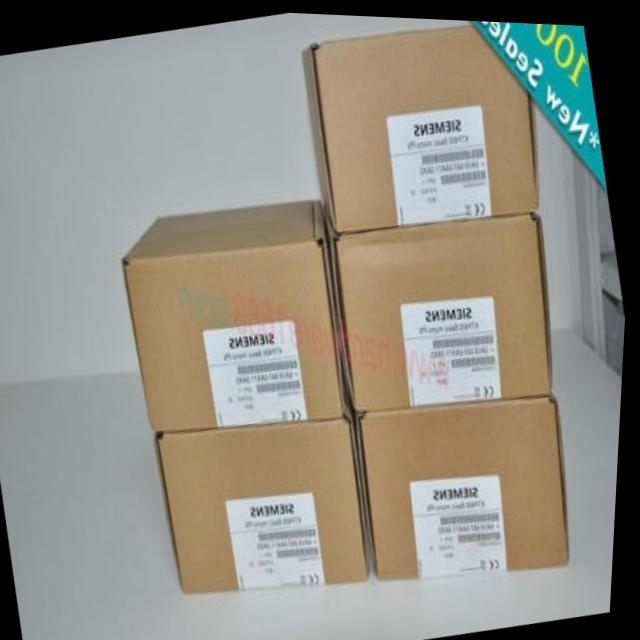box: (125, 196, 348, 430), (302, 21, 540, 232), (159, 368, 376, 593), (321, 200, 557, 405), (359, 387, 575, 577)
